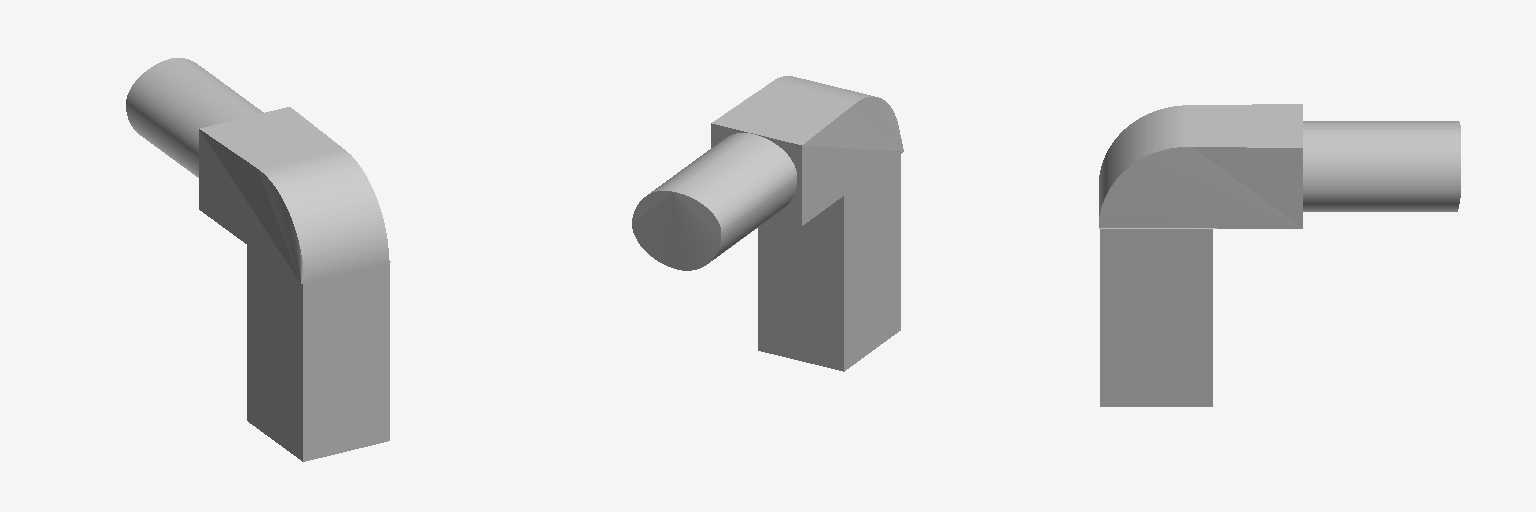
The model's file is gun.obj.
The picture shows the model from 3 angles: view 1: azimuth 30°, elevation 25°; view 2: azimuth 150°, elevation 25°; view 3: azimuth 270°, elevation 25°; orthographic projection.
Visible parts, largest first — view 1: Cube, Cube.001, Cube.002; view 2: Cube, Cube.001, Cube.002; view 3: Cube.001, Cube, Cube.002.
Boxes of the visible parts, x1=… form: Cube: x1=247, y1=245, x2=389, y2=461; Cube.001: x1=199, y1=107, x2=390, y2=283; Cube.002: x1=126, y1=58, x2=263, y2=177; Cube: x1=758, y1=154, x2=900, y2=371; Cube.001: x1=711, y1=76, x2=903, y2=225; Cube.002: x1=632, y1=133, x2=796, y2=270; Cube.001: x1=1099, y1=104, x2=1302, y2=228; Cube: x1=1100, y1=227, x2=1212, y2=406; Cube.002: x1=1300, y1=121, x2=1460, y2=211.
Size of the model in its own units: 2.17 by 5.92 by 7.48.